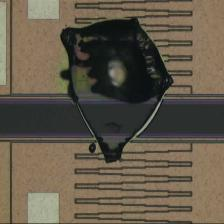PARTICLE: (58, 16, 175, 165)
